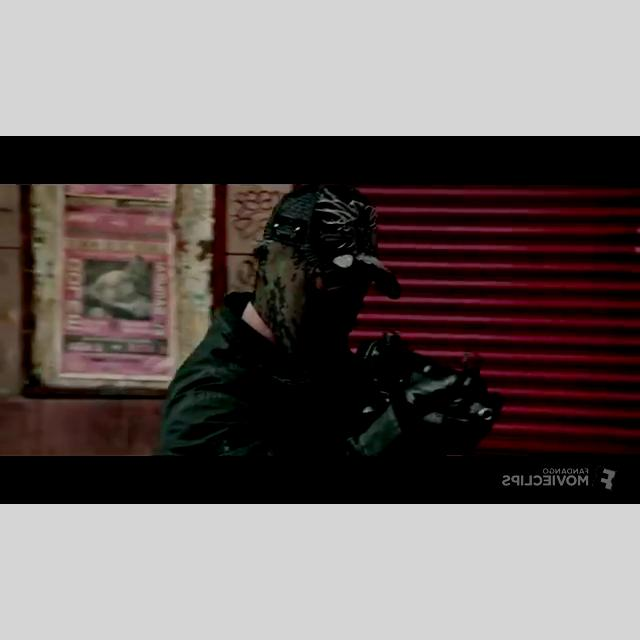criminal: (162, 184, 502, 454)
weapon: (353, 328, 495, 426)
